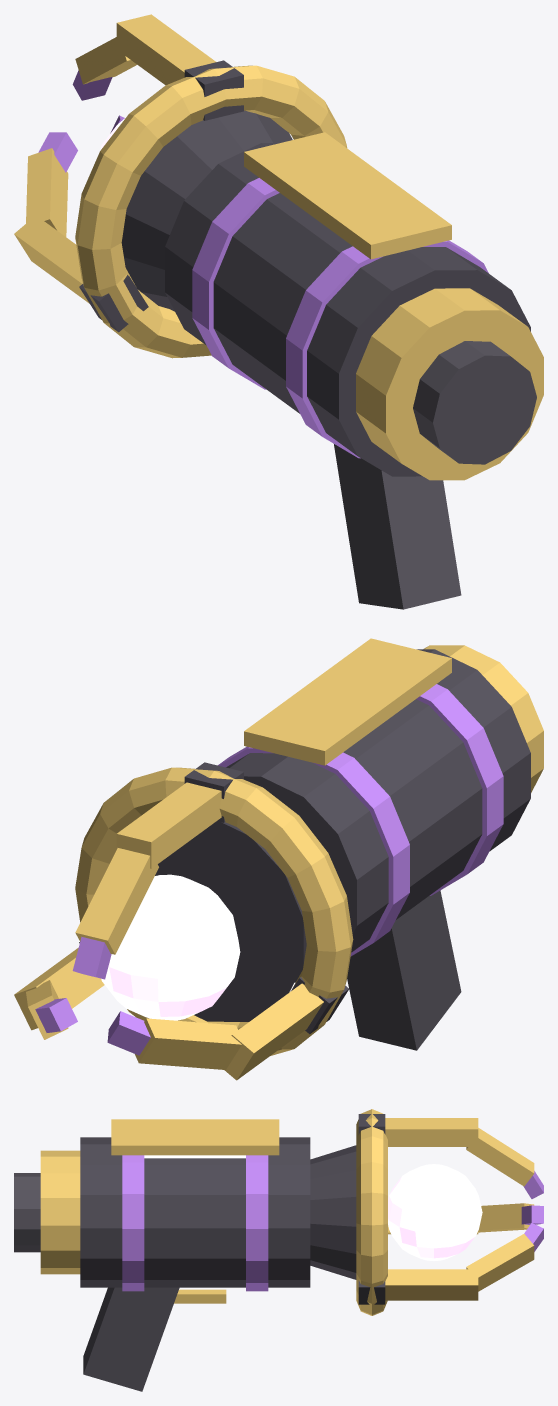
File: singularity.glb
3 renders of one model, top to bottom at view 1: azimuth 30°, elevation 25°; view 2: azimuth 150°, elevation 25°; view 3: azimuth 270°, elevation 25°, orthographic. The views are drawn at different scales.
Visible parts, largest first — view 1: Body, ClawC, ClawA; view 2: Body, Core, ClawA, ClawC, ClawB; view 3: Body, Core, ClawB, ClawA, ClawC.
Boxes of the visible parts, x1,y1,x2,y2 form: Body: (75,65,543,609); ClawC: (14,132,148,332); ClawA: (72,14,243,120); Body: (75,638,543,1055); Core: (101,874,240,1020); ClawA: (72,762,243,979); ClawC: (107,977,348,1080); ClawB: (14,942,104,1039); Body: (14,1109,387,1391); Core: (388,1164,482,1260); ClawB: (358,1223,543,1304); ClawA: (358,1114,543,1198); ClawC: (388,1203,543,1234).
Bounding box in the file's own units: 0.236 × 0.3301 × 0.5994.
